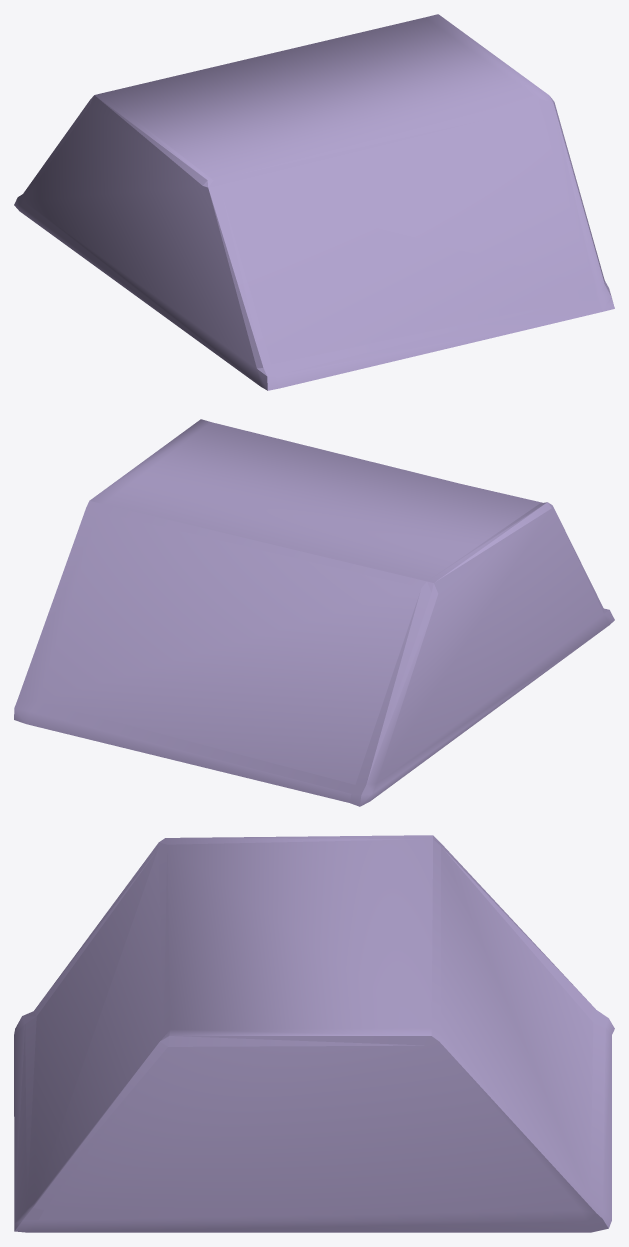
Rendered from gaming_phone_stand.glb.
The picture shows the model from 3 angles, top to bottom: view 1: azimuth 30°, elevation 25°; view 2: azimuth 150°, elevation 25°; view 3: azimuth 270°, elevation 25°; orthographic projection. The views are drawn at different scales.
Bounding box in the file's own units: 0.3 × 0.1357 × 0.3726.
